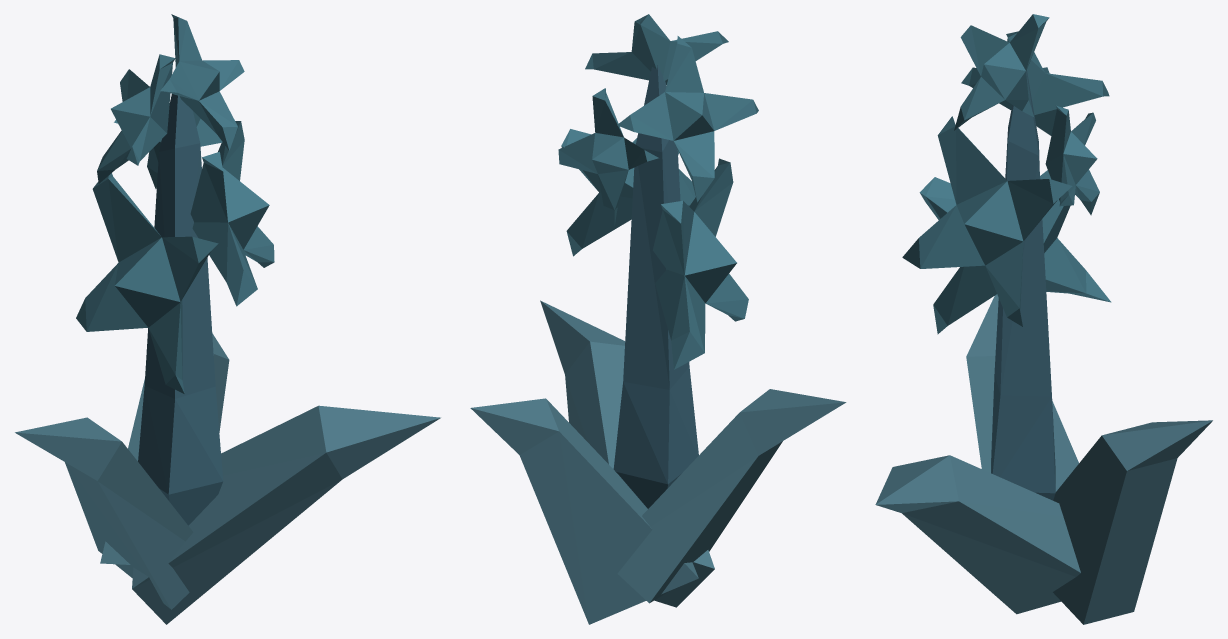
File: SM_Env_Plant_02.fbx
3 views of the same model, side by side, from view 1: azimuth 30°, elevation 25°; view 2: azimuth 150°, elevation 25°; view 3: azimuth 270°, elevation 25° (orthographic). The views are drawn at different scales.
Parts seen in each view (by area): view 1: SM_Env_Plant_02; view 2: SM_Env_Plant_02; view 3: SM_Env_Plant_02.
Boxes of the visible parts, x1=… form: SM_Env_Plant_02: x1=15, y1=14, x2=440, y2=624; SM_Env_Plant_02: x1=470, y1=14, x2=846, y2=624; SM_Env_Plant_02: x1=875, y1=14, x2=1212, y2=624.
Bounding box in the file's own units: 0.00524 × 0.00814 × 0.00409.
1 material, 1 textured.
